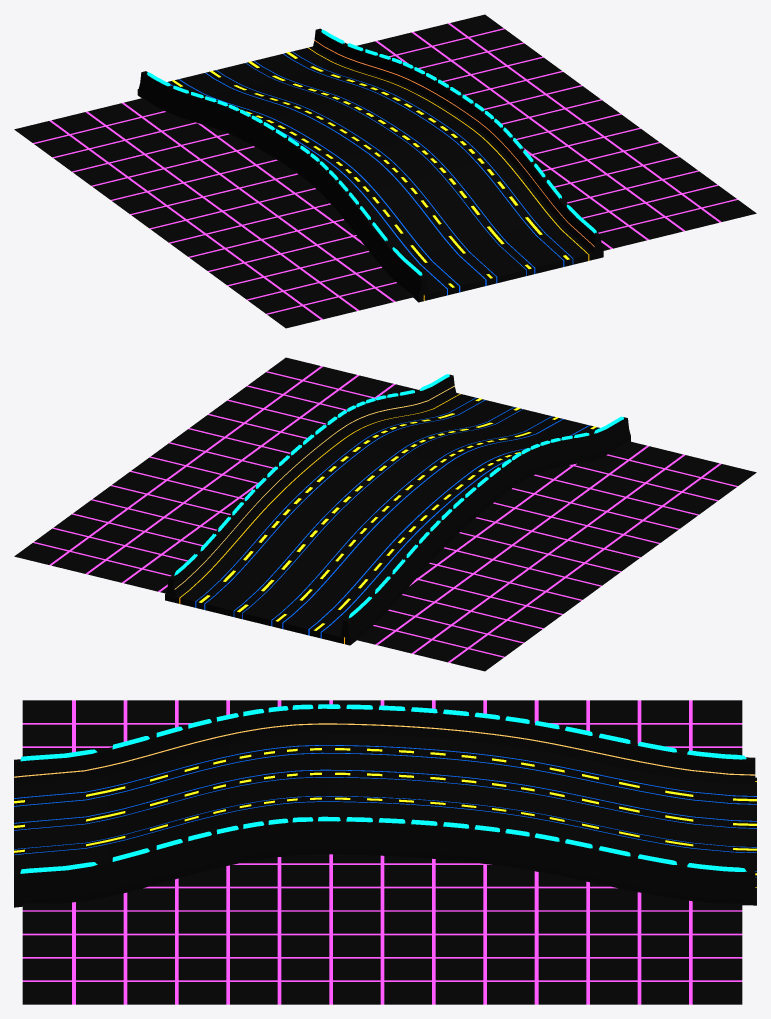
File: road_tile_two.fbx
3 renders of one model, top to bottom at view 1: azimuth 30°, elevation 25°; view 2: azimuth 150°, elevation 25°; view 3: azimuth 270°, elevation 25°, orthographic. The views are drawn at different scales.
Visible parts, largest first — view 1: Plane.003, Cube.049, Cube.050; view 2: Plane.003, Cube.049, Cube.050; view 3: Plane.003, Cube.049, Cube.050.
Boxes of the visible parts, x1,y1,x2,y2 form: Plane.003: (14,14,756,328); Cube.049: (137,46,603,302); Cube.050: (138,28,603,302); Plane.003: (14,357,756,671); Cube.049: (165,393,630,645); Cube.050: (166,374,630,644); Plane.003: (22,700,742,1004); Cube.049: (14,733,756,907); Cube.050: (14,704,755,907).
Bounding box in the file's own units: 200 × 26.6 × 206.
